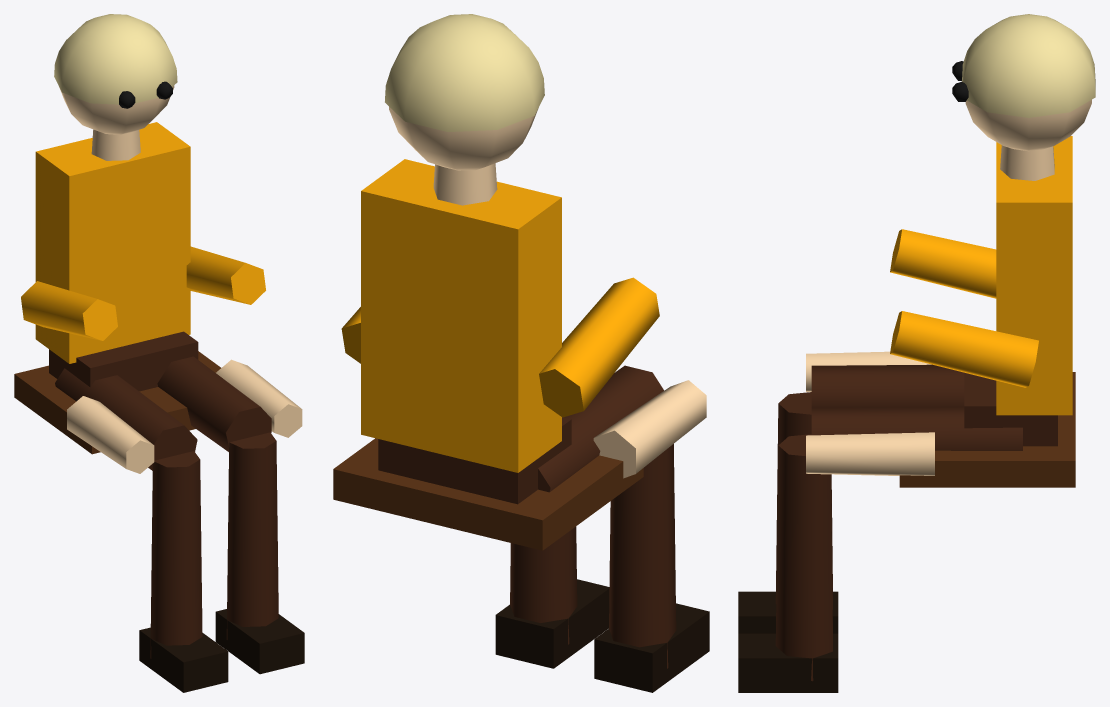
File: crowd-seated-13.glb
3 renders of one model, left to right at view 1: azimuth 30°, elevation 25°; view 2: azimuth 150°, elevation 25°; view 3: azimuth 270°, elevation 25°, orthographic. The views are drawn at different scales.
Parts seen in each view (by area): view 1: Torso, Left Shin, Right Shin, Hair Cap, Right Thigh, Left Thigh, Hips, Left Upper Arm, Left Shoe, Right Shoe, Left Lower Arm, Bench Seat (+4 smaller); view 2: Torso, Hair Cap, Bench Seat, Left Shin, Left Upper Arm, Hips, Left Shoe, Right Shoe, Left Lower Arm, Right Shin, Left Thigh, Head (+2 smaller); view 3: Torso, Right Shin, Hair Cap, Right Upper Arm, Bench Seat, Left Thigh, Right Thigh, Right Lower Arm, Left Upper Arm, Right Shoe, Head, Hips (+4 smaller).
Boxes of the visible parts, box(x1,y1,x2,y2) form: Torso: box(35, 122, 190, 363); Left Shin: box(150, 451, 202, 658); Right Shin: box(226, 432, 278, 639); Hair Cap: box(54, 14, 177, 104); Right Thigh: box(157, 356, 271, 451); Left Thigh: box(55, 368, 197, 470); Hips: box(49, 331, 198, 391); Left Upper Arm: box(21, 281, 117, 340); Left Shoe: box(139, 627, 228, 692); Right Shoe: box(215, 609, 304, 674); Left Lower Arm: box(67, 396, 154, 473); Bench Seat: box(14, 351, 220, 454); Torso: box(361, 159, 561, 472); Hair Cap: box(385, 14, 544, 131); Bench Seat: box(333, 438, 643, 550); Left Shin: box(609, 444, 676, 668); Left Upper Arm: box(539, 277, 659, 417); Hips: box(378, 417, 571, 504); Left Shoe: box(594, 603, 709, 692); Right Shoe: box(495, 579, 609, 668); Left Lower Arm: box(593, 380, 706, 478); Right Shin: box(510, 526, 577, 644); Left Thigh: box(538, 365, 663, 492); Head: box(389, 107, 538, 170); Torso: box(996, 136, 1072, 415); Right Shin: box(775, 434, 832, 681); Hair Cap: box(962, 14, 1095, 117); Right Upper Arm: box(890, 311, 1038, 387); Bench Seat: box(899, 372, 1075, 487); Left Thigh: box(811, 364, 964, 407); Right Thigh: box(811, 406, 1022, 450); Right Lower Arm: box(806, 432, 934, 475); Left Upper Arm: box(890, 229, 996, 298); Right Shoe: box(738, 633, 838, 692); Head: box(965, 99, 1091, 151); Hips: box(964, 372, 1057, 446).
Size of the model in its own units: 0.4097 by 1.2 by 0.6089.
